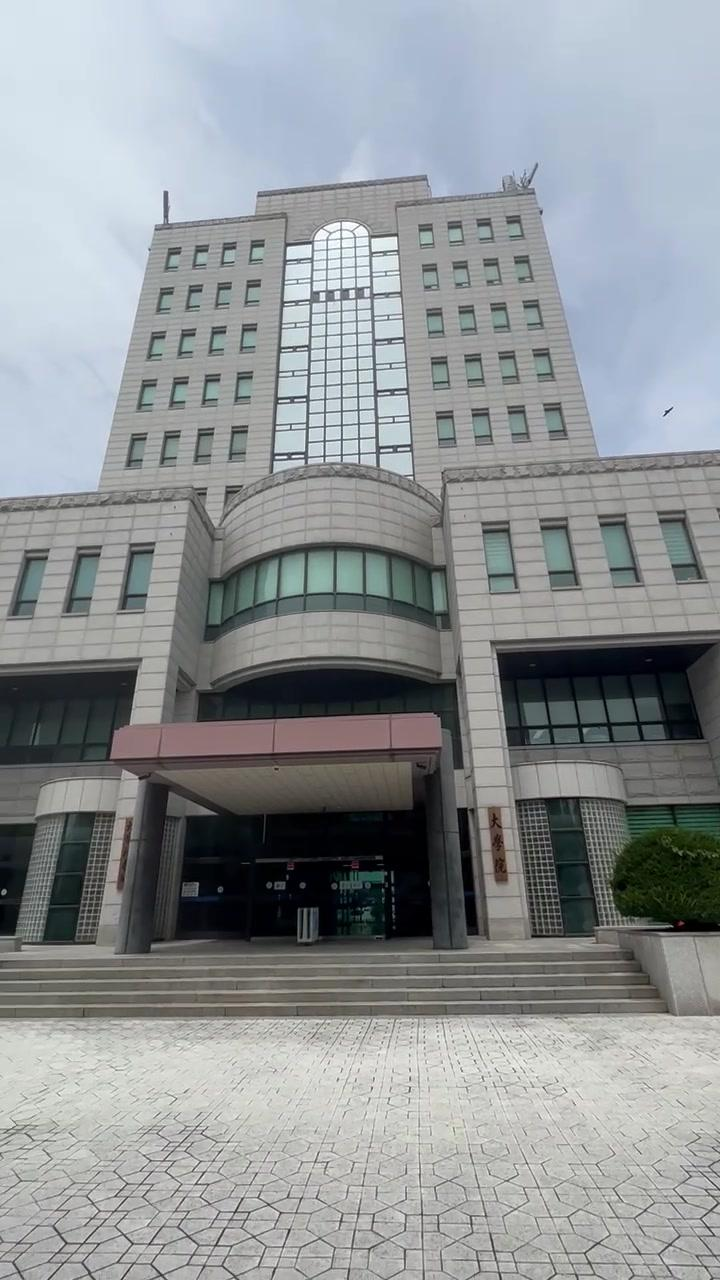building: (90, 150, 578, 852)
